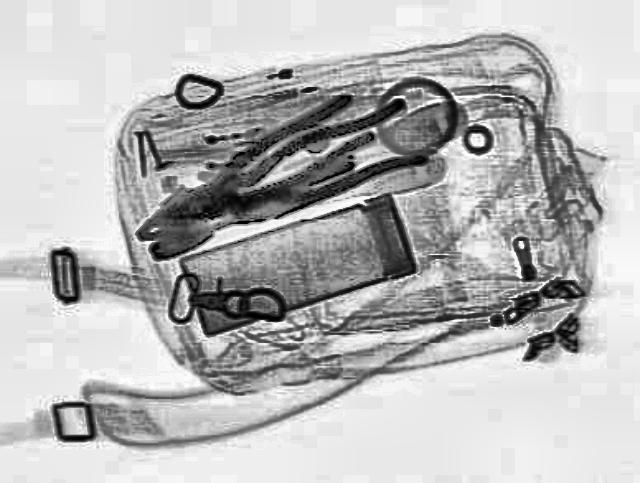Pliers: (132, 95, 444, 247), (112, 89, 390, 253)
